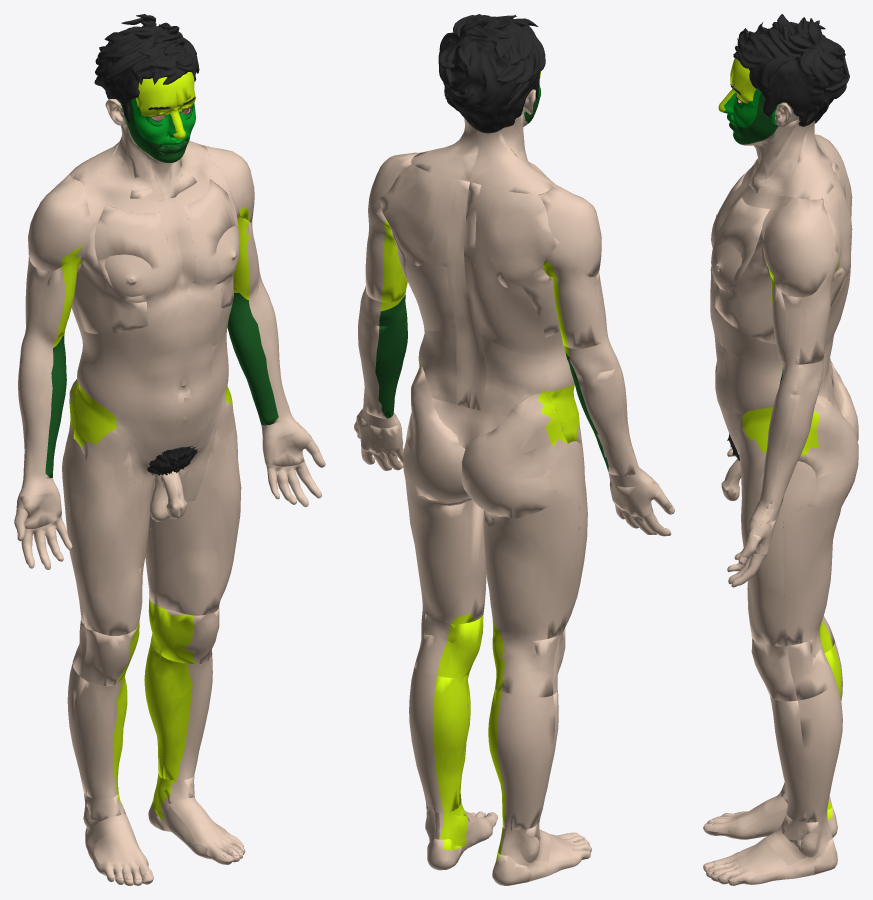
The model's file is regions.glb.
3 views of the same model, side by side, from view 1: azimuth 30°, elevation 25°; view 2: azimuth 150°, elevation 25°; view 3: azimuth 270°, elevation 25° (orthographic). The views are drawn at different scales.
Parts seen in each view (by area): view 1: Anterior region of thigh.r, Anterior region of thigh.l, Hairs of head, Anterior region of leg.l, Anterior region of leg.r, Pectoral region.r, Deltoid region.r, Anterior region of forearm.l, Anterior region of forearm.r, Lateral region of thorax.r, Lateral region of abdomen.r, Pectoral region.l (+46 smaller); view 2: Posterior region of thigh.r, Hairs of head, Gluteal region.r, Posterior region of thigh.l, Posterior region of leg.r, Posterior region of leg.l, Gluteal region.l, Scapular region.r, Posterior region of arm.r, Infrascapular region.r, Scapular region.l, Posterior region of forearm.r (+32 smaller); view 3: Hairs of head, Anterior region of thigh.l, Posterior region of thigh.l, Deltoid region.l, Gluteal region.l, Posterior region of leg.l, Lateral region of thorax.l, Anterior region of leg.l, Lateral region of abdomen.l, Pectoral region.l, Posterior region of arm.l, Posterior region of neck.l (+45 smaller).
Part boxes in pixels (x1,y1,x2,y2): Anterior region of thigh.r: [69, 382, 154, 635]; Anterior region of thigh.l: [150, 383, 241, 615]; Hairs of head: [94, 14, 199, 123]; Anterior region of leg.l: [153, 654, 212, 780]; Anterior region of leg.r: [74, 673, 127, 799]; Pectoral region.r: [94, 205, 174, 302]; Deltoid region.r: [28, 175, 90, 271]; Anterior region of forearm.l: [228, 304, 292, 425]; Anterior region of forearm.r: [21, 360, 66, 481]; Lateral region of thorax.r: [71, 225, 147, 333]; Lateral region of abdomen.r: [77, 342, 147, 422]; Pectoral region.l: [183, 179, 239, 284]; Posterior region of thigh.r: [483, 496, 579, 640]; Hairs of head: [438, 14, 545, 133]; Gluteal region.r: [461, 392, 567, 518]; Posterior region of thigh.l: [403, 471, 485, 624]; Posterior region of leg.r: [488, 689, 555, 830]; Posterior region of leg.l: [409, 667, 468, 813]; Gluteal region.l: [403, 360, 470, 501]; Scapular region.r: [486, 191, 559, 287]; Posterior region of arm.r: [543, 242, 606, 348]; Infrascapular region.r: [475, 274, 545, 354]; Scapular region.l: [379, 164, 436, 266]; Posterior region of forearm.r: [570, 369, 640, 476]; Hairs of head: [733, 14, 849, 126]; Anterior region of thigh.l: [738, 407, 787, 646]; Posterior region of thigh.l: [783, 506, 841, 645]; Deltoid region.l: [763, 197, 834, 297]; Gluteal region.l: [798, 395, 858, 509]; Posterior region of leg.l: [798, 679, 842, 822]; Lateral region of thorax.l: [715, 229, 845, 344]; Anterior region of leg.l: [770, 696, 806, 822]; Lateral region of abdomen.l: [723, 348, 782, 414]; Pectoral region.l: [711, 197, 769, 291]; Posterior region of arm.l: [799, 248, 839, 364]; Posterior region of neck.l: [785, 120, 834, 199].
Bounding box in the file's own units: 0.6801 × 1.74 × 0.294.
